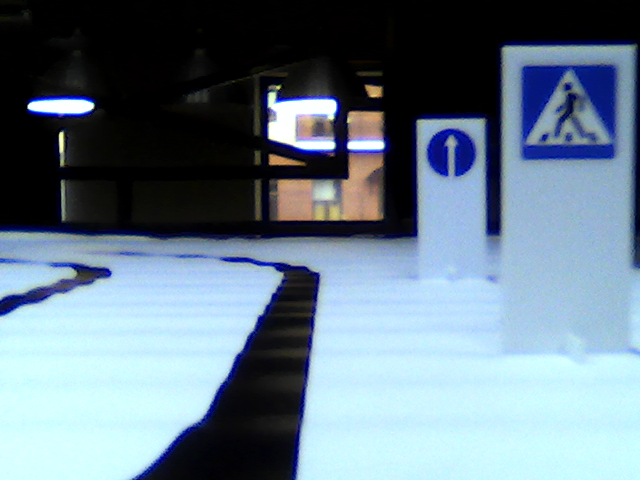pesh: (515, 55, 631, 171)
